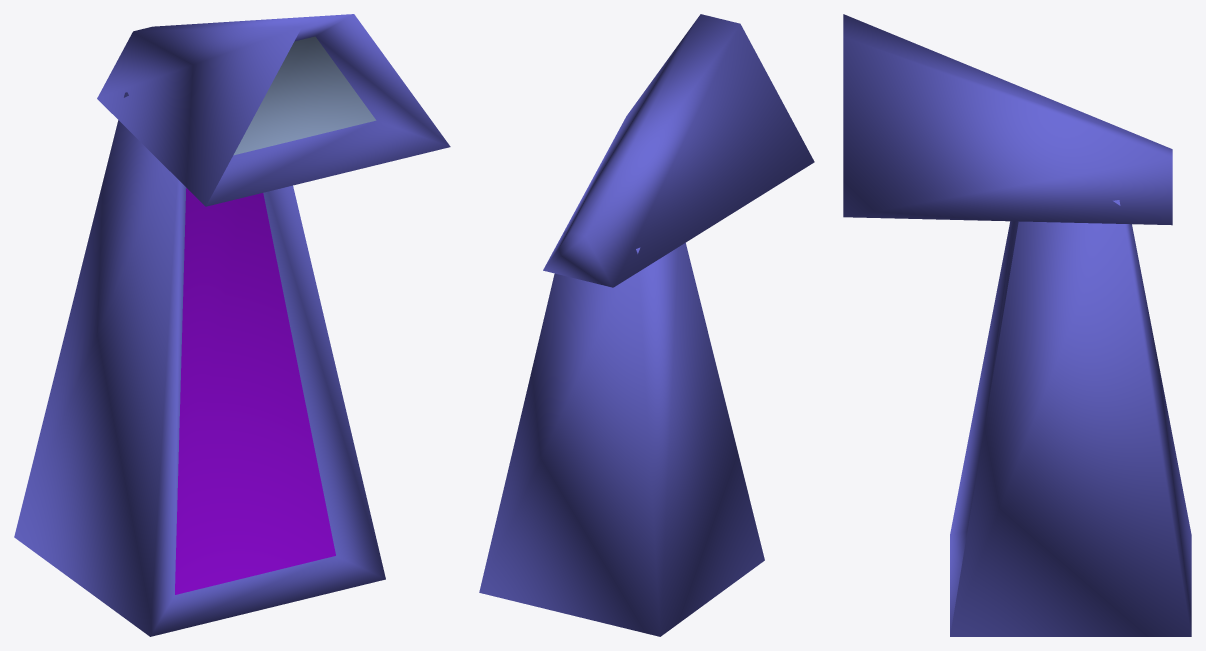
Rendered from pushingCannon.fbx.
3 views of the same model, side by side, from view 1: azimuth 30°, elevation 25°; view 2: azimuth 150°, elevation 25°; view 3: azimuth 270°, elevation 25° (orthographic). The views are drawn at different scales.
Parts seen in each view (by area): view 1: PushingCannon; view 2: PushingCannon; view 3: PushingCannon.
Part boxes in pixels (x1=…): PushingCannon: x1=14, y1=14, x2=450, y2=636; PushingCannon: x1=479, y1=14, x2=814, y2=636; PushingCannon: x1=843, y1=14, x2=1191, y2=636.
Bounding box in the file's own units: 0.1569 × 0.3866 × 0.2176.
